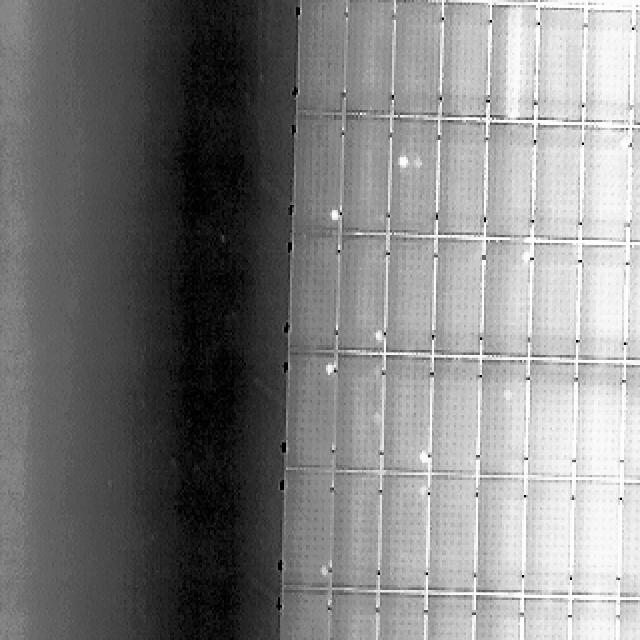Hotspots: (325, 202, 342, 230), (319, 356, 338, 378), (417, 444, 432, 468), (398, 150, 413, 173), (319, 560, 333, 584), (374, 327, 387, 342)
PV-modules: (578, 128, 630, 248), (430, 242, 482, 362), (341, 240, 393, 358), (480, 124, 531, 244), (344, 120, 395, 239), (335, 471, 386, 590), (388, 241, 438, 359), (335, 356, 385, 474), (432, 358, 482, 476), (426, 478, 475, 598), (392, 120, 441, 240), (291, 117, 340, 237), (291, 234, 340, 354), (581, 9, 631, 126), (284, 355, 334, 472), (394, 0, 443, 119), (282, 473, 331, 592), (478, 244, 527, 363), (438, 4, 488, 120), (476, 478, 524, 598), (570, 482, 618, 602), (382, 472, 430, 592), (294, 0, 344, 115), (488, 5, 537, 122), (479, 359, 528, 476), (535, 127, 583, 246), (526, 481, 574, 600), (386, 352, 433, 473), (579, 244, 628, 360), (530, 243, 579, 359), (574, 368, 622, 486), (436, 124, 484, 242), (351, 0, 398, 119), (530, 361, 577, 479), (539, 7, 586, 124), (618, 482, 640, 600), (279, 590, 329, 640), (328, 592, 380, 640), (374, 594, 424, 640), (471, 597, 521, 640), (423, 597, 472, 640), (522, 598, 572, 640), (622, 245, 640, 360), (565, 599, 615, 640), (624, 367, 640, 485), (614, 600, 640, 640), (632, 130, 640, 248), (636, 10, 640, 128), (584, 0, 632, 8), (494, 0, 544, 5), (540, 0, 588, 5), (632, 0, 640, 8)
